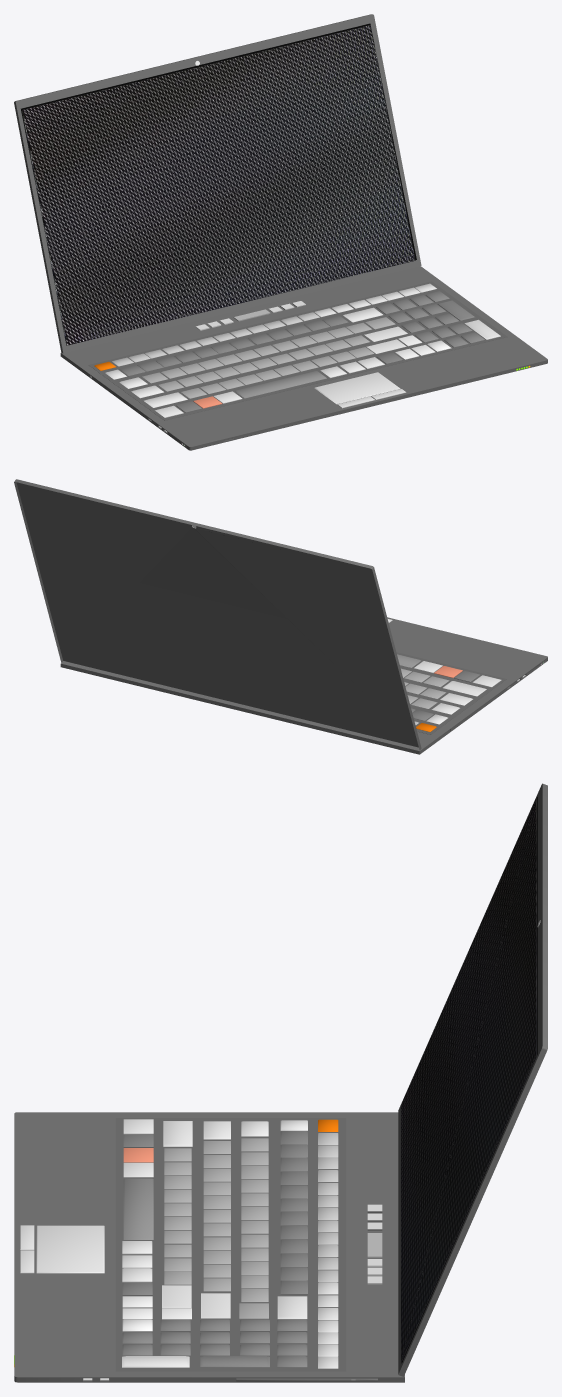
Rendered from DynamicLaptop.fbx.
The picture shows the model from 3 angles, top to bottom: view 1: azimuth 30°, elevation 25°; view 2: azimuth 150°, elevation 25°; view 3: azimuth 270°, elevation 25°; orthographic projection. The views are drawn at different scales.
Visible parts, largest first — view 1: Display, Laptop, Screen; view 2: Screen, Laptop; view 3: Laptop, Display, Screen.
Boxes of the visible parts, x1,y1,x2,y2 form: Display: (21, 25, 415, 345); Laptop: (60, 266, 547, 450); Screen: (14, 14, 421, 353); Screen: (14, 479, 421, 750); Laptop: (60, 617, 547, 754); Laptop: (14, 1112, 404, 1382); Display: (401, 798, 536, 1362); Screen: (398, 783, 547, 1376).
Bounding box in the file's own units: 2205 × 1298 × 1875.
